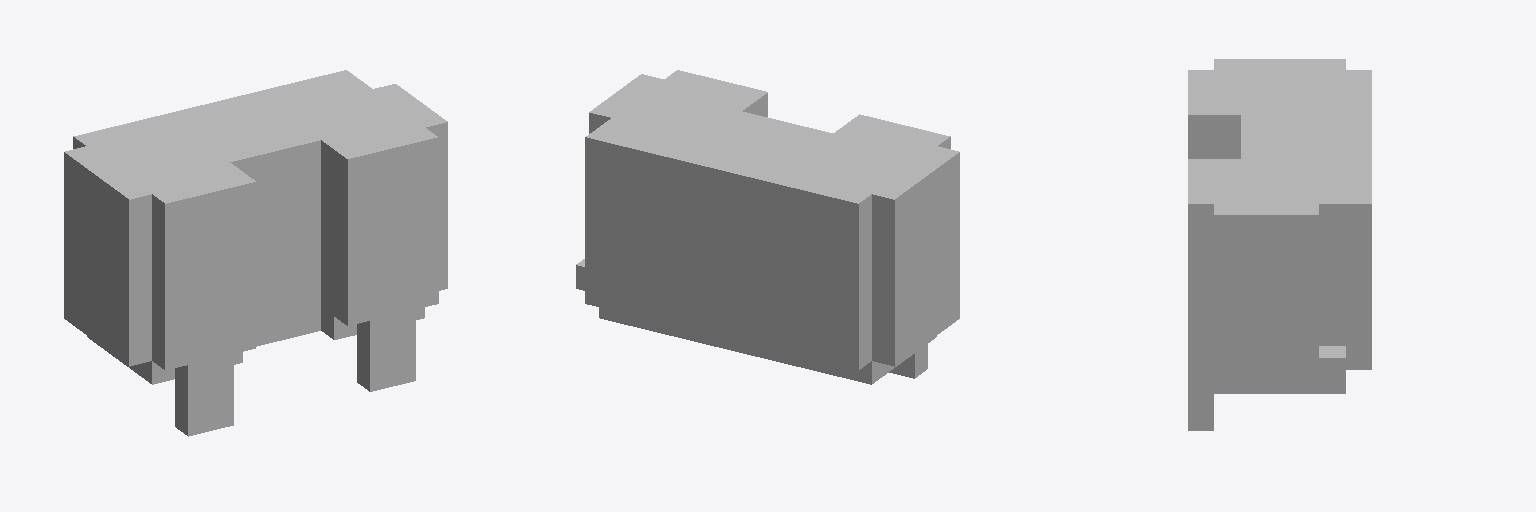
The model's file is character belly modeling.obj.
3 views of the same model, side by side, from view 1: azimuth 30°, elevation 25°; view 2: azimuth 150°, elevation 25°; view 3: azimuth 270°, elevation 25° (orthographic).
Parts seen in each view (by area): view 1: object 1; view 2: object 1; view 3: object 1.
Part boxes in pixels (x1,y1,x2,y2): object 1: (64, 70, 447, 436); object 1: (576, 70, 959, 384); object 1: (1188, 59, 1371, 430).
Size of the model in its own units: 1.4 by 1 by 0.7.